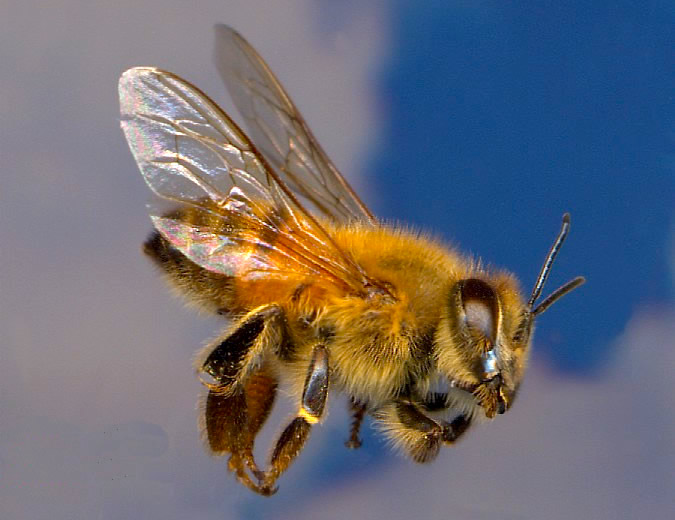Africanized Honey Bee: (80, 12, 602, 502)
